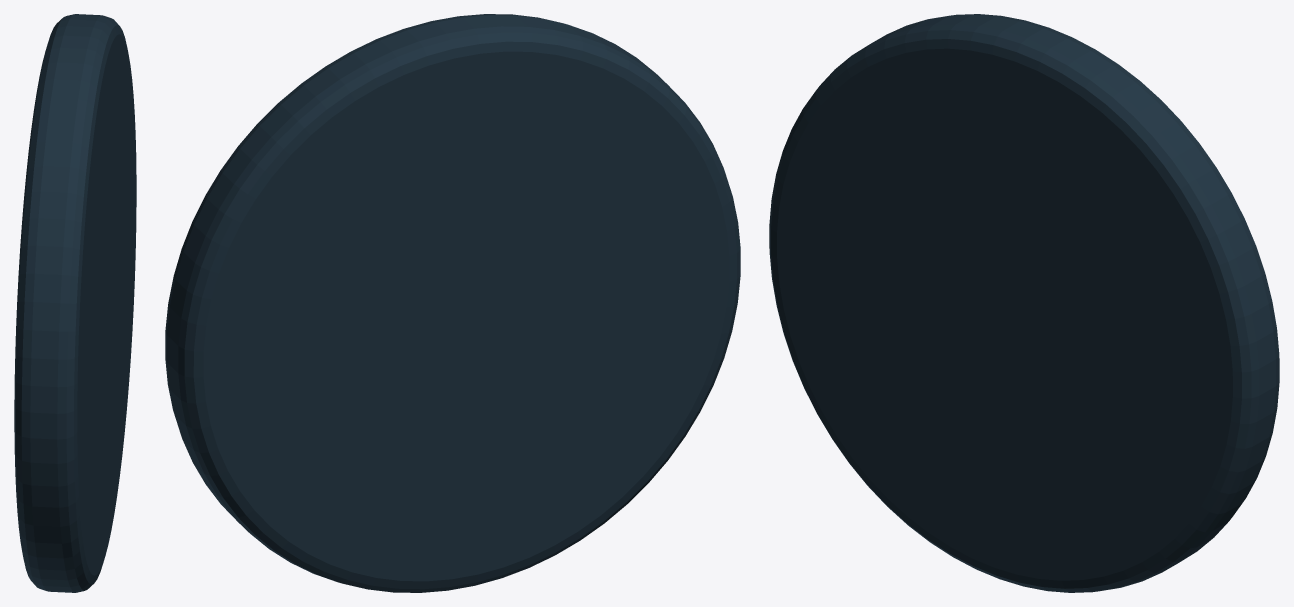
File: SM_HC_BeatSpeaker_25.fbx
3 views of the same model, side by side, from view 1: azimuth 30°, elevation 25°; view 2: azimuth 150°, elevation 25°; view 3: azimuth 270°, elevation 25° (orthographic). The views are drawn at different scales.
Parts seen in each view (by area): view 1: SM_HC_BeatSpeaker_25; view 2: SM_HC_BeatSpeaker_25; view 3: SM_HC_BeatSpeaker_25.
Part boxes in pixels (x1=…): SM_HC_BeatSpeaker_25: x1=14, y1=14, x2=136, y2=592; SM_HC_BeatSpeaker_25: x1=165, y1=14, x2=740, y2=592; SM_HC_BeatSpeaker_25: x1=769, y1=14, x2=1279, y2=592.
Bounding box in the file's own units: 83.72 × 108 × 128.
